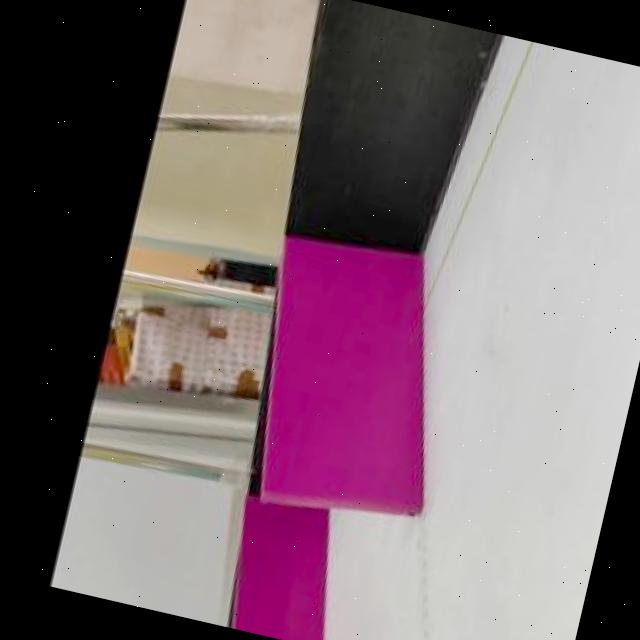xparking: (262, 245, 453, 512), (230, 504, 349, 640)
